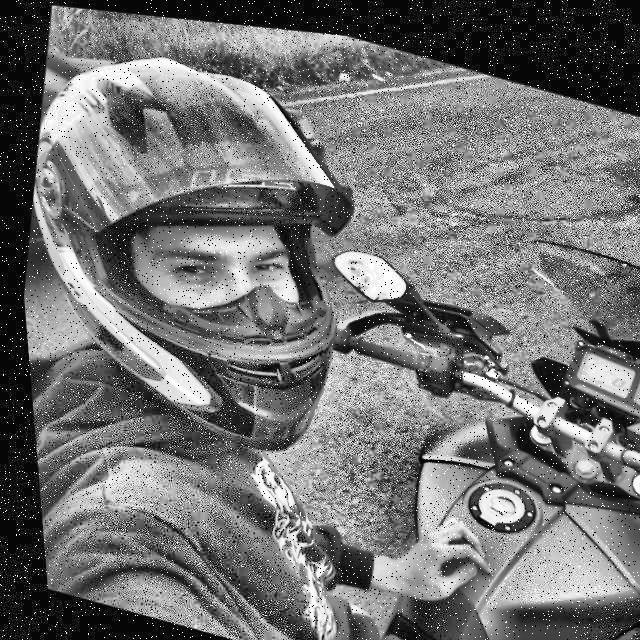Helmet: (1, 7, 398, 479)
